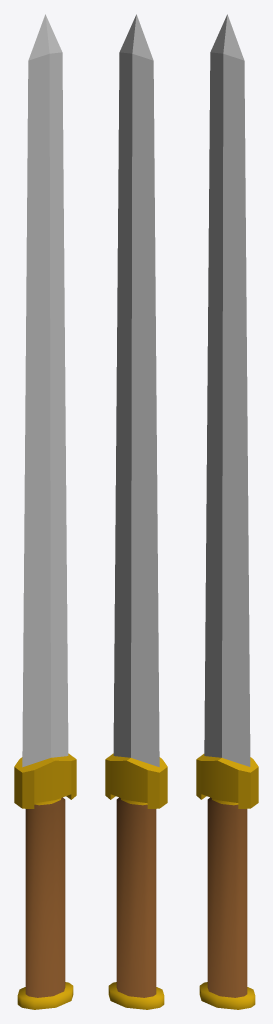
Rendered from Jian.fbx.
3 renders of one model, left to right at view 1: azimuth 30°, elevation 25°; view 2: azimuth 150°, elevation 25°; view 3: azimuth 330°, elevation 25°, orthographic.
Visible parts, largest first — view 1: Jian; view 2: Jian; view 3: Jian.
Boxes of the visible parts, x1,y1,x2,y2 form: Jian: (14,14,76,1009); Jian: (105,14,167,1009); Jian: (196,14,258,1009).
Bounding box in the file's own units: 11.57 × 200 × 7.78.
